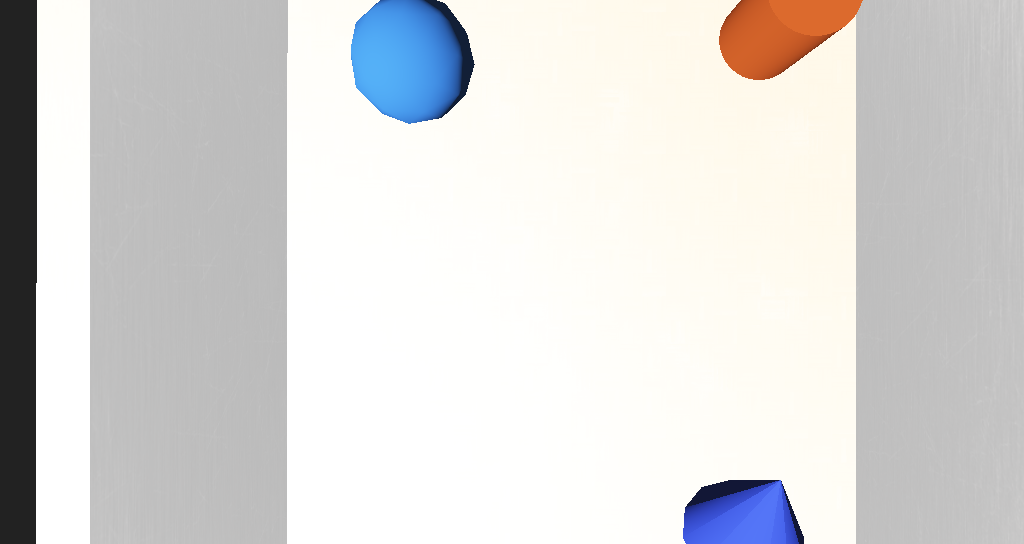cone: (586, 155, 640, 198)
cylinder: (563, 315, 637, 391)
sphere: (394, 167, 455, 215)
